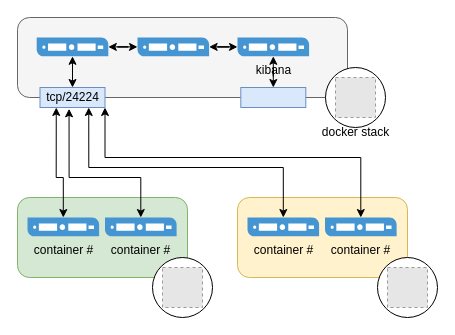
The diagram is 455 pixels wide and 335 high, and some of its shapes have lost their labels. Grey dashed boxes stand in for pictures. The shapes that lost their labels are listed below. From the top down, each one's box as (x1, y1, x2, y2) in pixels, then its label:
(36, 37, 108, 56): fluentd
(137, 37, 209, 56): elasticsearch
(240, 86, 306, 108): tcp/5601
